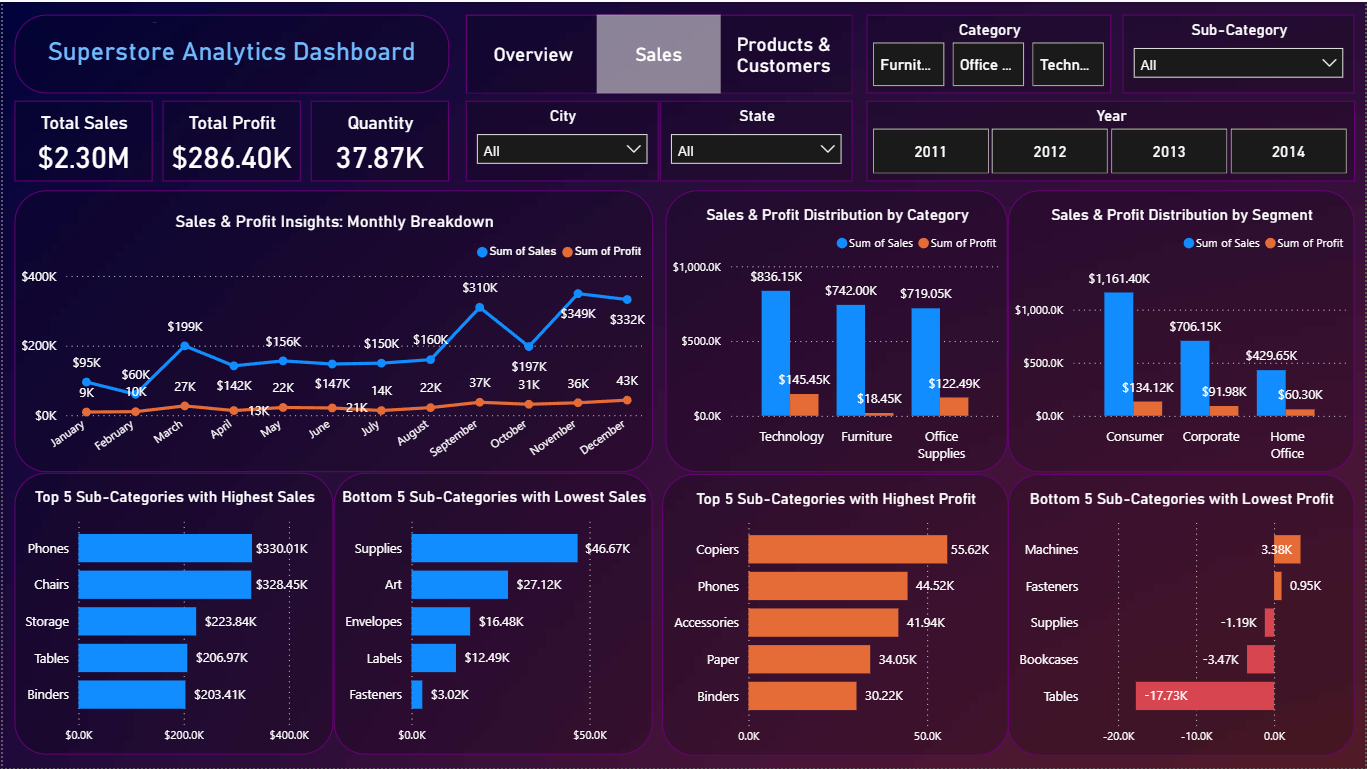

This screenshot's page, from the dashboard's own definition file:
{"tool":"powerbi","page":{"name":"Sales","canvas":[1280,720],"ordinal":1},"visuals":[{"type":"textbox","box":[10.8,12,408.2,74.2],"z":0},{"type":"card","title":"Total Sales","fields":{"Values":["Sum(Orders.Sales)"]},"box":[10.8,92.8,129.5,75.5],"z":1000},{"type":"shape","box":[434.8,11.9,363.6,74.4],"z":2000},{"type":"actionButton","box":[440.2,11.9,116.5,74.4],"z":3000},{"type":"actionButton","box":[557.8,11.9,116.5,74.4],"z":4000},{"type":"actionButton","box":[675.3,11.9,116.5,74.4],"z":5000},{"type":"lineChart","title":"Sales & Profit Insights: Monthly Breakdown","fields":{"Y":["Sum(Orders.Sales)","Sum(Orders.Profit)"],"Category":["Date Table.Month Name"]},"box":[10.8,176.9,600,264.3],"z":6000},{"type":"slicer","title":"Sub-Category","fields":{"Values":["Orders.Sub-Category"]},"box":[1051.9,11.9,217.9,74.4],"z":7000},{"type":"advancedSlicerVisual","fields":{"Values":["Orders.Category"]},"box":[811.3,11.9,229.8,74.4],"z":8000},{"type":"advancedSlicerVisual","fields":{"Values":["Date Table.Year"]},"box":[811.3,92.8,458.5,75.5],"z":9000},{"type":"slicer","title":"City","fields":{"Values":["Orders.City"]},"box":[434.8,92.8,181.2,75.5],"z":10000},{"type":"slicer","title":"State","fields":{"Values":["Orders.State"]},"box":[617.1,92.8,181.2,75.5],"z":11000},{"type":"card","title":"Total Profit","fields":{"Values":["Sum(Orders.Profit)"]},"box":[150,92.8,129.5,75.5],"z":12000},{"type":"card","title":"Quantity","fields":{"Values":["Sum(Orders.Quantity)"]},"box":[289.1,92.8,129.5,75.5],"z":13000},{"type":"clusteredColumnChart","title":"Sales & Profit Distribution by Category","fields":{"Category":["Orders.Category"],"Y":["Sum(Orders.Sales)","Sum(Orders.Profit)"]},"box":[622.5,176.9,321.5,264.3],"z":14000},{"type":"clusteredColumnChart","title":"Sales & Profit Distribution by Segment","fields":{"Y":["Sum(Orders.Sales)","Sum(Orders.Profit)"],"Category":["Orders.Segment"]},"box":[944,176.9,325.8,264.3],"z":15000},{"type":"barChart","title":"Top 5 Sub-Categories with Highest Sales","fields":{"Y":["Sum(Orders.Sales)"],"Category":["Orders.Sub-Category"]},"box":[10.8,442.3,299.9,264.3],"z":16000},{"type":"barChart","title":"Top 5 Sub-Categories with Highest Profit","fields":{"Category":["Orders.Sub-Category"],"Y":["Sum(Orders.Profit)"]},"box":[618.8,442.9,325.6,264.5],"z":17000},{"type":"barChart","title":"Bottom 5 Sub-Categories with Lowest Sales","fields":{"Y":["Sum(Orders.Sales)"],"Category":["Orders.Sub-Category"]},"box":[310.7,442.3,299.9,264.3],"z":18000},{"type":"barChart","title":"Bottom 5 Sub-Categories with Lowest Profit","fields":{"Category":["Orders.Sub-Category"],"Y":["Sum(Orders.Profit)"]},"box":[944.4,442.9,325.6,264.5],"z":19000}]}

Visuals, with their boxes in screenshot pixels (x1, y1, x2, y2), scaled from the page's 1280x720 canvas onto the 1367x769 screenshot:
textbox: {"left": 12, "top": 13, "right": 447, "bottom": 92}
"Total Sales" card: {"left": 12, "top": 99, "right": 150, "bottom": 180}
shape: {"left": 464, "top": 13, "right": 853, "bottom": 92}
actionButton: {"left": 470, "top": 13, "right": 595, "bottom": 92}
actionButton: {"left": 596, "top": 13, "right": 720, "bottom": 92}
actionButton: {"left": 721, "top": 13, "right": 846, "bottom": 92}
"Sales & Profit Insights: Monthly Breakdown" lineChart: {"left": 12, "top": 189, "right": 652, "bottom": 471}
"Sub-Category" slicer: {"left": 1123, "top": 13, "right": 1356, "bottom": 92}
advancedSlicerVisual - Orders.Category: {"left": 866, "top": 13, "right": 1112, "bottom": 92}
advancedSlicerVisual - Date Table.Year: {"left": 866, "top": 99, "right": 1356, "bottom": 180}
"City" slicer: {"left": 464, "top": 99, "right": 658, "bottom": 180}
"State" slicer: {"left": 659, "top": 99, "right": 853, "bottom": 180}
"Total Profit" card: {"left": 160, "top": 99, "right": 298, "bottom": 180}
"Quantity" card: {"left": 309, "top": 99, "right": 447, "bottom": 180}
"Sales & Profit Distribution by Category" clusteredColumnChart: {"left": 665, "top": 189, "right": 1008, "bottom": 471}
"Sales & Profit Distribution by Segment" clusteredColumnChart: {"left": 1008, "top": 189, "right": 1356, "bottom": 471}
"Top 5 Sub-Categories with Highest Sales" barChart: {"left": 12, "top": 472, "right": 332, "bottom": 755}
"Top 5 Sub-Categories with Highest Profit" barChart: {"left": 661, "top": 473, "right": 1009, "bottom": 756}
"Bottom 5 Sub-Categories with Lowest Sales" barChart: {"left": 332, "top": 472, "right": 652, "bottom": 755}
"Bottom 5 Sub-Categories with Lowest Profit" barChart: {"left": 1009, "top": 473, "right": 1356, "bottom": 756}
